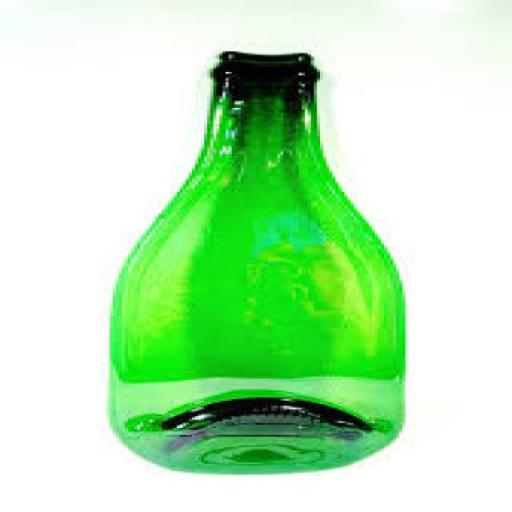glass: (75, 45, 431, 478)
